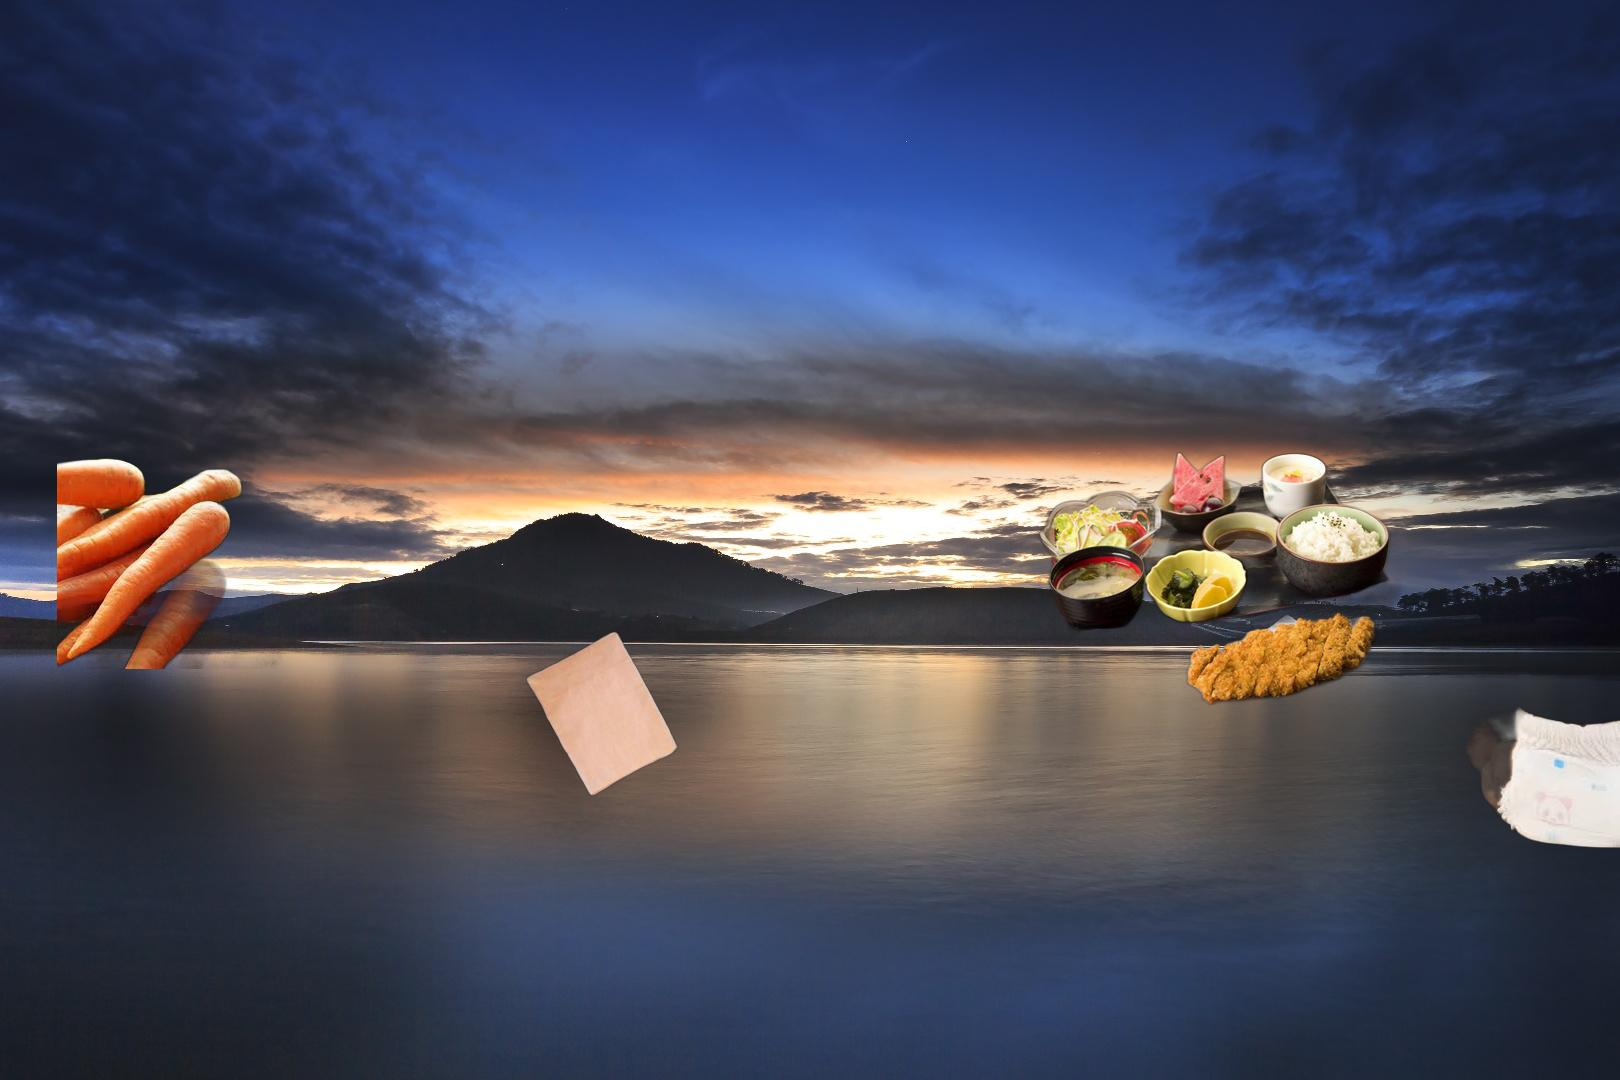biological: (1027, 450, 1478, 722), (57, 445, 282, 669)
paper-bag: (523, 629, 681, 799)
trash: (1460, 679, 1620, 857)
